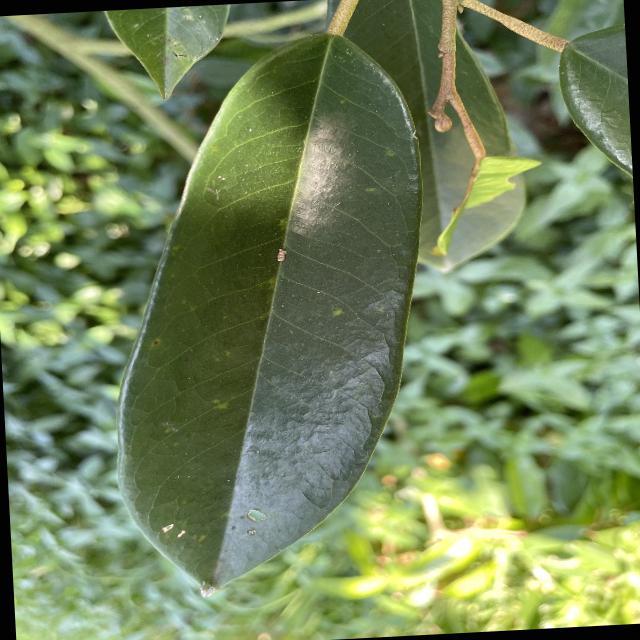No Disease: (81, 15, 458, 607)
